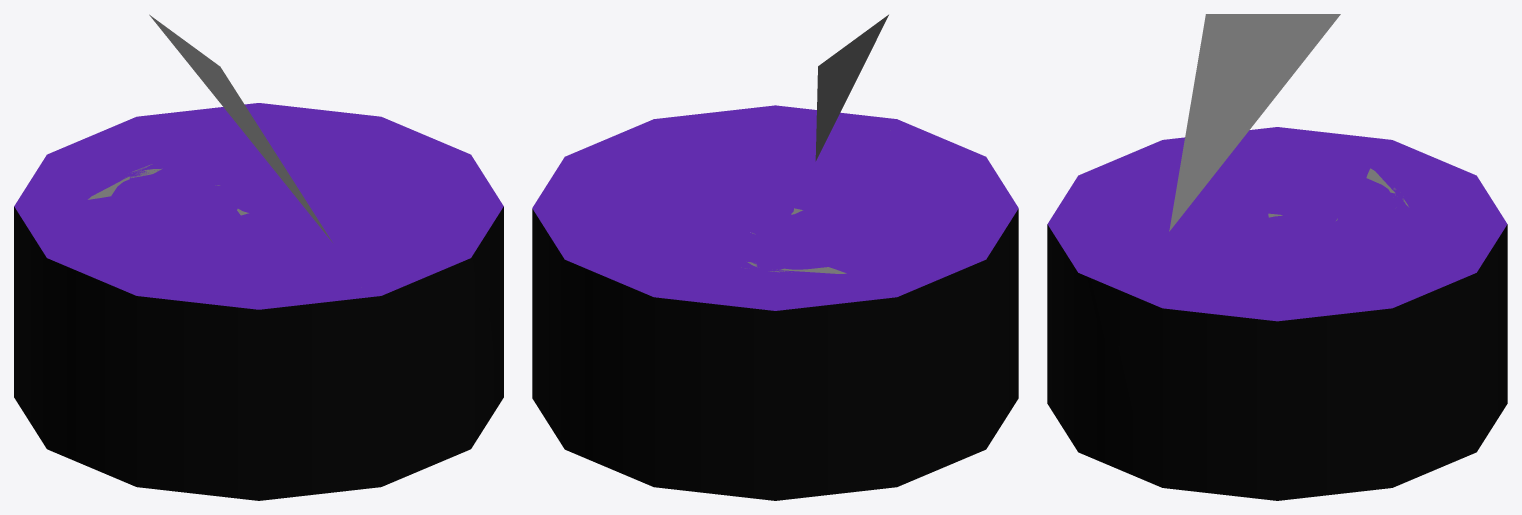
The model's file is :Users:mbpro:Documents:test_subject.gltf.
3 views of the same model, side by side, from view 1: azimuth 30°, elevation 25°; view 2: azimuth 150°, elevation 25°; view 3: azimuth 270°, elevation 25° (orthographic). The views are drawn at different scales.
Visible parts, largest first — view 1: root; view 2: root; view 3: root.
Part boxes in pixels (x1,y1,x2,y2): root: [14, 14, 503, 500]; root: [532, 14, 1018, 500]; root: [1047, 14, 1507, 500].
Size of the model in its own units: 0.904 by 0.7687 by 0.904.
